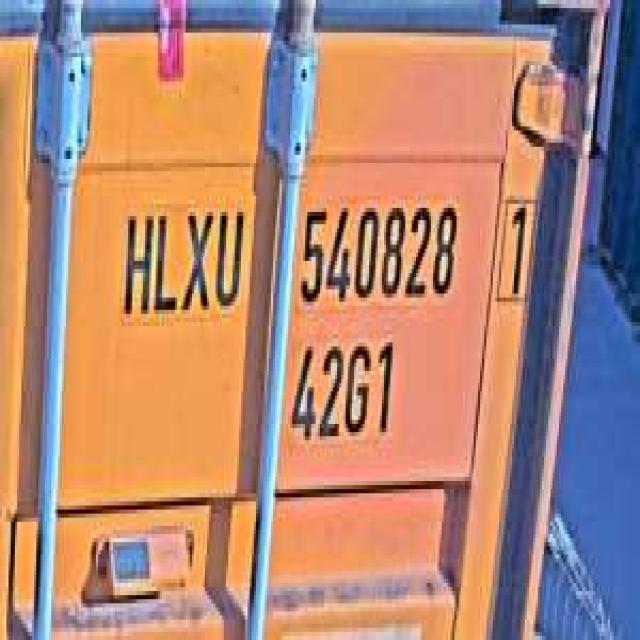dv: (488, 179, 538, 314)
owner: (118, 192, 248, 326)
serial: (292, 187, 461, 310)
size: (286, 330, 397, 453)
